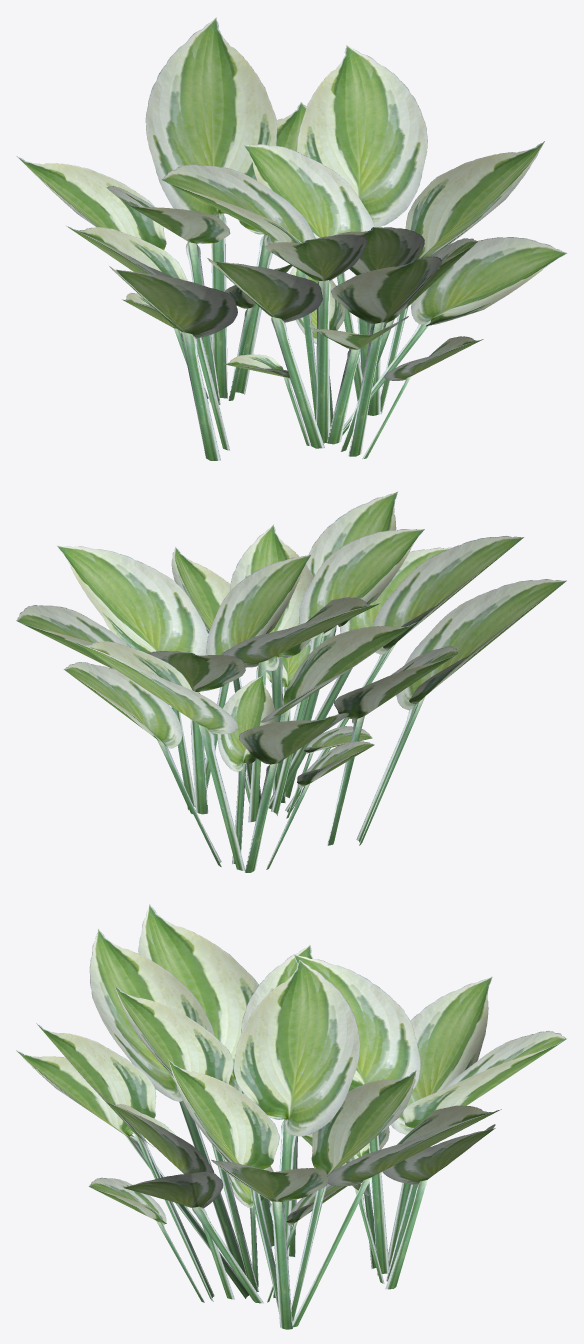
Rendered from plant_small_wg_02C.fbx.
3 renders of one model, top to bottom at view 1: azimuth 30°, elevation 25°; view 2: azimuth 150°, elevation 25°; view 3: azimuth 270°, elevation 25°, orthographic. The views are drawn at different scales.
Parts seen in each view (by area): view 1: plant_small_wg_02C; view 2: plant_small_wg_02C; view 3: plant_small_wg_02C.
Boxes of the visible parts, box(x1,y1,x2,y2) form: plant_small_wg_02C: box(16, 17, 567, 460); plant_small_wg_02C: box(16, 491, 566, 872); plant_small_wg_02C: box(16, 904, 566, 1329).
Bounding box in the file's own units: 84.09 × 47.73 × 84.8.
